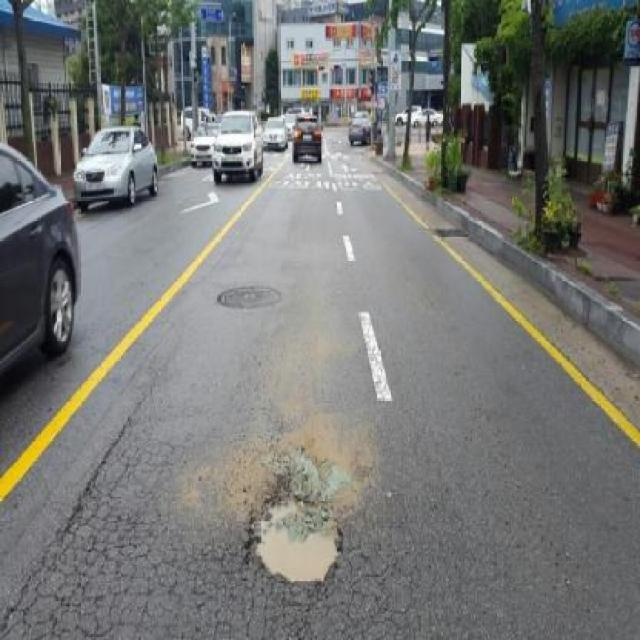Pothole: (242, 469, 352, 597)
